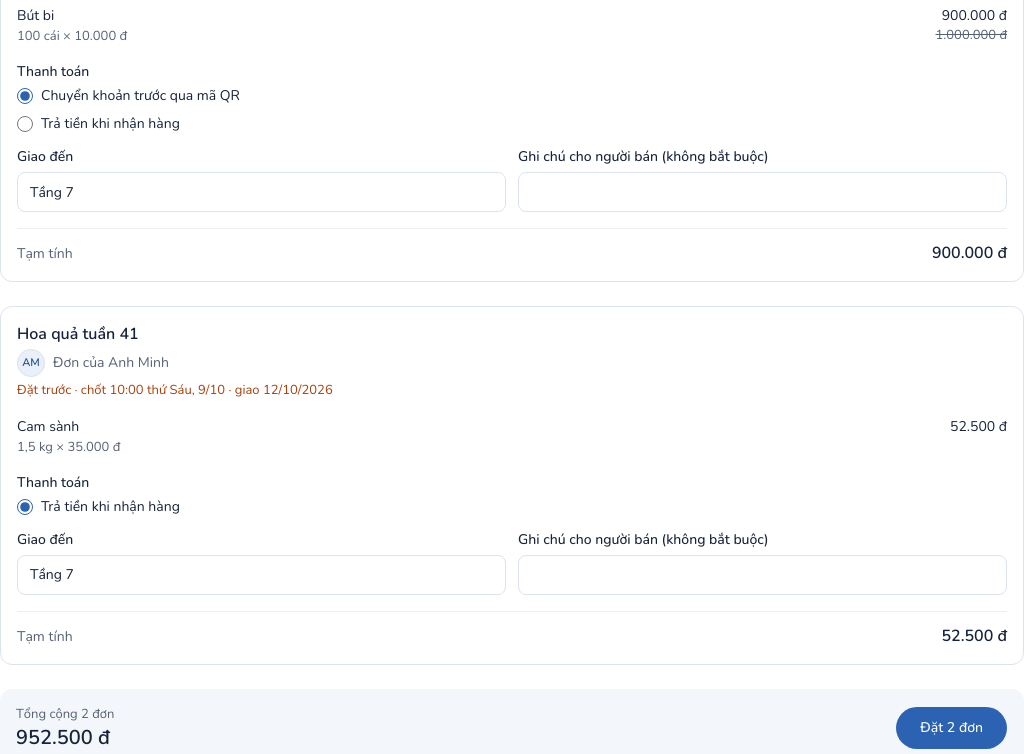
Test case: CheckoutPage › lists what ran short and creates nothing
(page scrolled)
What coordinates should you click on to do the following:
click the button "Đặt 2 đơn"
I would click on:
 (952, 728)
Its box is [895,706,1008,750].
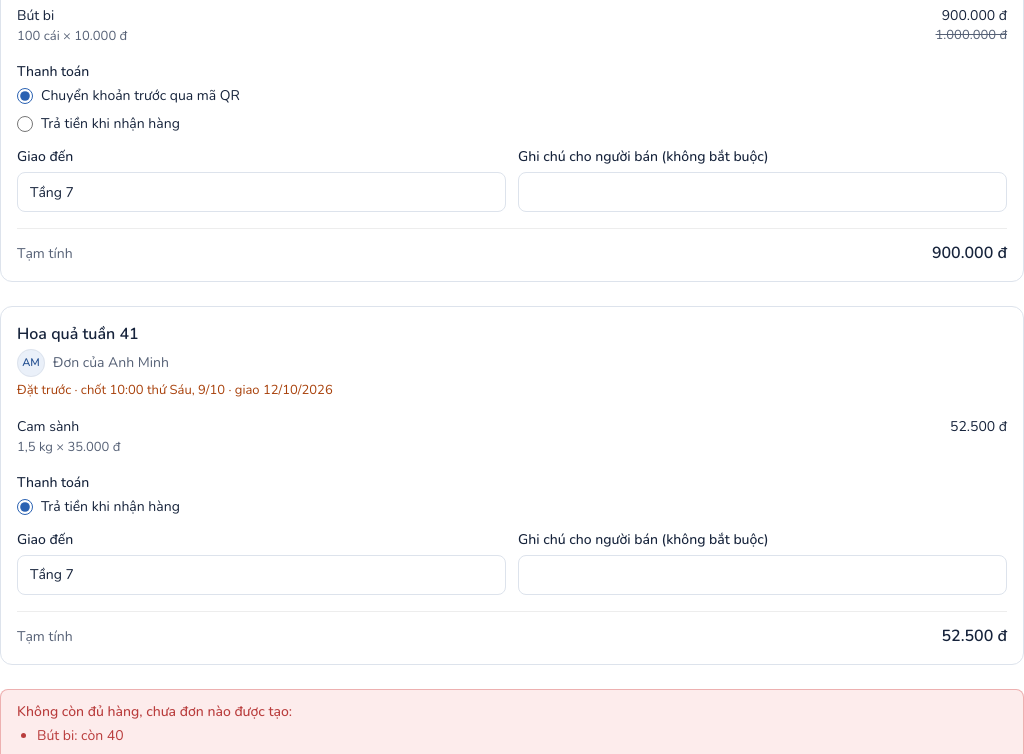
Check: the list item "Bút bi: còn 40" is shown, box [37,726,124,744]
